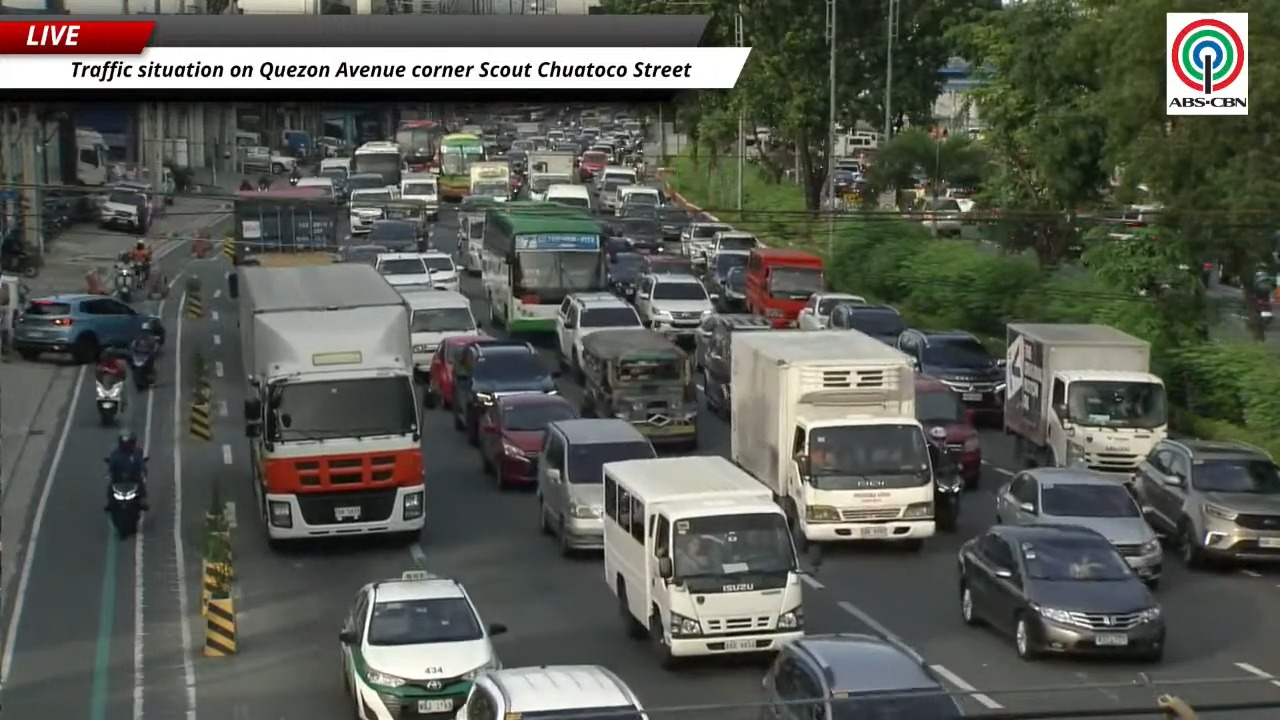bus: (481, 201, 606, 333), (438, 134, 485, 201), (395, 120, 446, 171), (350, 141, 404, 187)
car: (958, 524, 1165, 661), (339, 571, 505, 719), (996, 467, 1162, 587), (1131, 438, 1279, 567), (759, 634, 963, 719), (536, 418, 655, 555), (452, 340, 556, 445), (459, 665, 646, 719), (12, 294, 158, 363), (478, 393, 577, 488), (895, 330, 1005, 415), (694, 315, 771, 416), (914, 374, 981, 488), (555, 292, 641, 375), (400, 287, 479, 376), (424, 333, 493, 408), (635, 273, 713, 338), (828, 303, 907, 345), (706, 250, 749, 311), (797, 292, 866, 329), (98, 187, 151, 234), (680, 221, 732, 264), (348, 187, 393, 235), (374, 252, 431, 288), (363, 219, 425, 252), (609, 217, 663, 252), (607, 250, 644, 301), (706, 230, 761, 263), (919, 198, 963, 236), (419, 250, 459, 291), (713, 266, 746, 312), (615, 185, 660, 218), (642, 253, 696, 275), (346, 172, 390, 198), (661, 203, 691, 241), (317, 167, 348, 202), (339, 244, 389, 265), (579, 150, 608, 182), (615, 202, 661, 222)
motorcycle: (928, 427, 964, 532), (108, 480, 142, 539), (95, 377, 124, 425), (0, 244, 38, 278), (130, 346, 155, 391), (113, 264, 133, 303), (130, 260, 150, 290), (289, 176, 299, 186)
truck: (236, 263, 424, 546), (729, 330, 935, 549), (602, 456, 803, 667), (1003, 323, 1167, 476), (232, 187, 338, 264), (528, 151, 576, 200), (469, 161, 511, 201)
